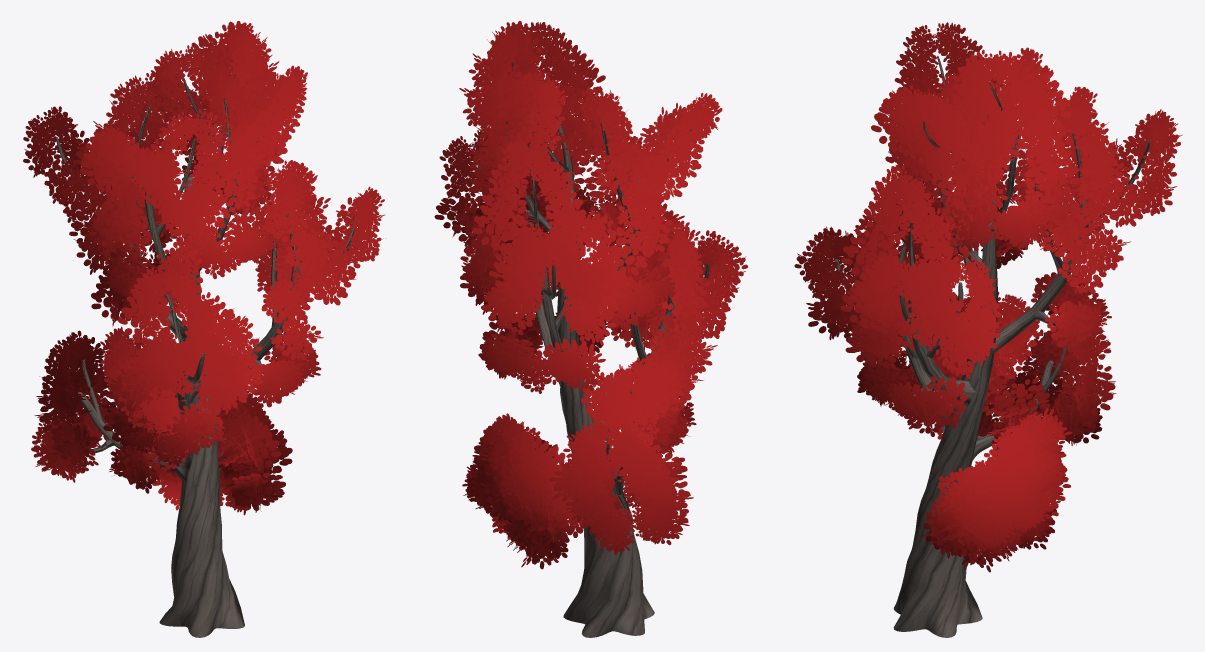
File: TwistedTree_4.glb
3 views of the same model, side by side, from view 1: azimuth 30°, elevation 25°; view 2: azimuth 150°, elevation 25°; view 3: azimuth 270°, elevation 25° (orthographic). The views are drawn at different scales.
Parts seen in each view (by area): view 1: TwistedTree_4; view 2: TwistedTree_4; view 3: TwistedTree_4.
Boxes of the visible parts, x1,y1,x2,y2 form: TwistedTree_4: (23, 21, 384, 637); TwistedTree_4: (434, 21, 747, 637); TwistedTree_4: (794, 22, 1182, 637).
Bounding box in the file's own units: 10.38 × 18.74 × 11.29.
2 materials, 2 textured.
